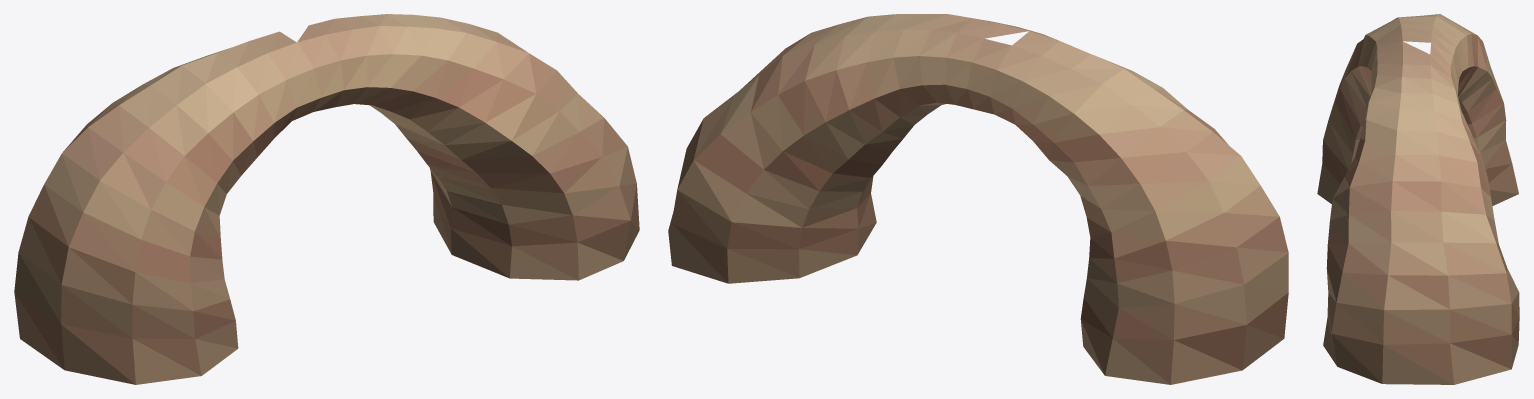
The model's file is arch_1.glb.
The picture shows the model from 3 angles, left to right: view 1: azimuth 30°, elevation 25°; view 2: azimuth 150°, elevation 25°; view 3: azimuth 270°, elevation 25°; orthographic projection. The views are drawn at different scales.
Visible parts, largest first — view 1: rock; view 2: rock; view 3: rock.
Boxes of the visible parts, left/top/right/bottom form: rock: left=14, top=14, right=639, bottom=384; rock: left=668, top=14, right=1288, bottom=384; rock: left=1317, top=14, right=1519, bottom=384.
Size of the model in its own units: 18.49 by 7.87 by 6.81.
